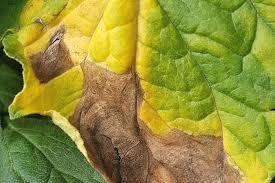Bok-Choy-Diseased: (4, 0, 275, 183)
